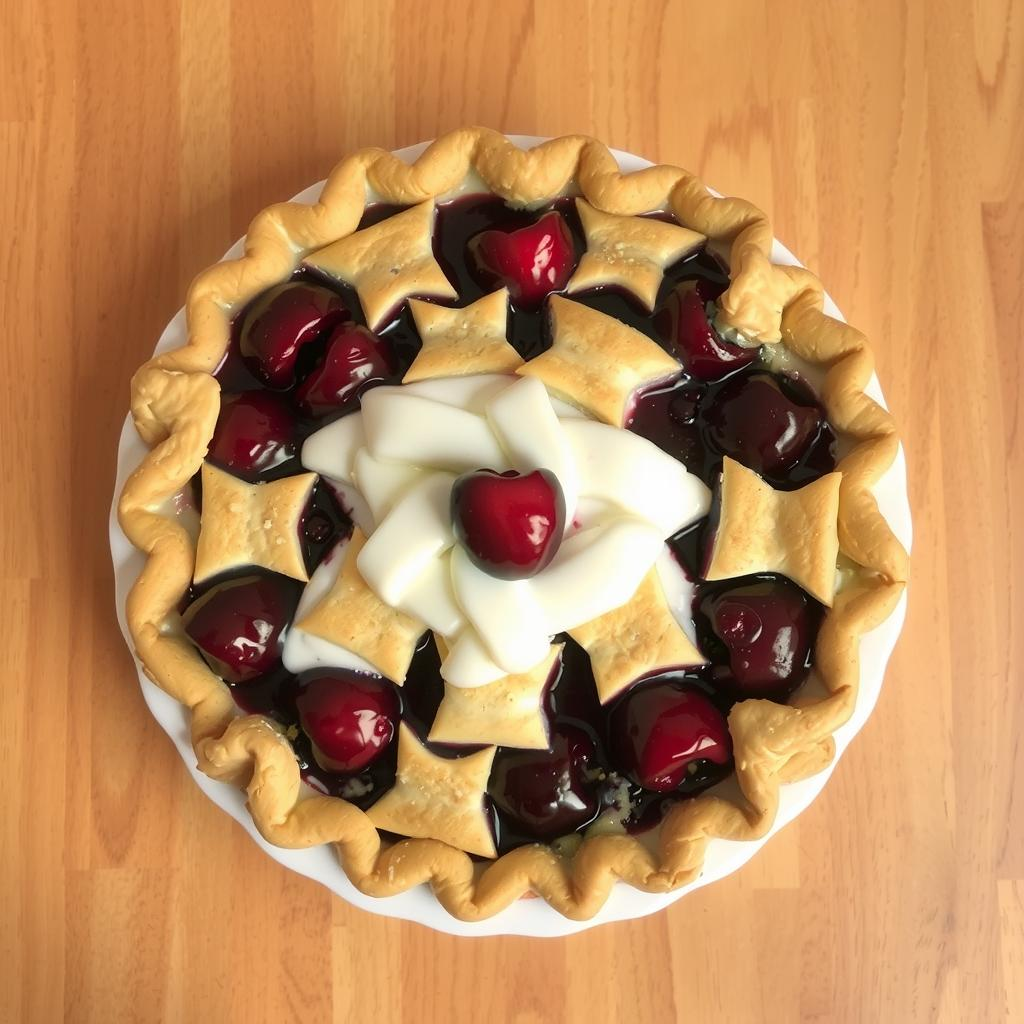pie: (111, 111, 914, 929)
